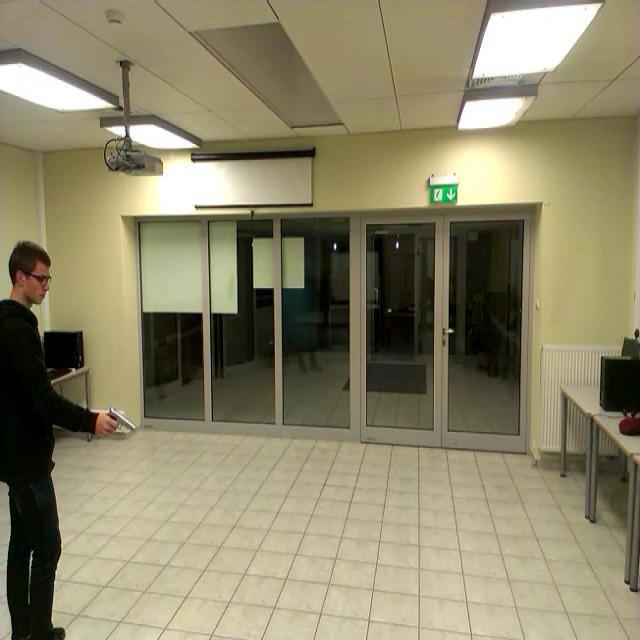weapon: (108, 408, 138, 432)
